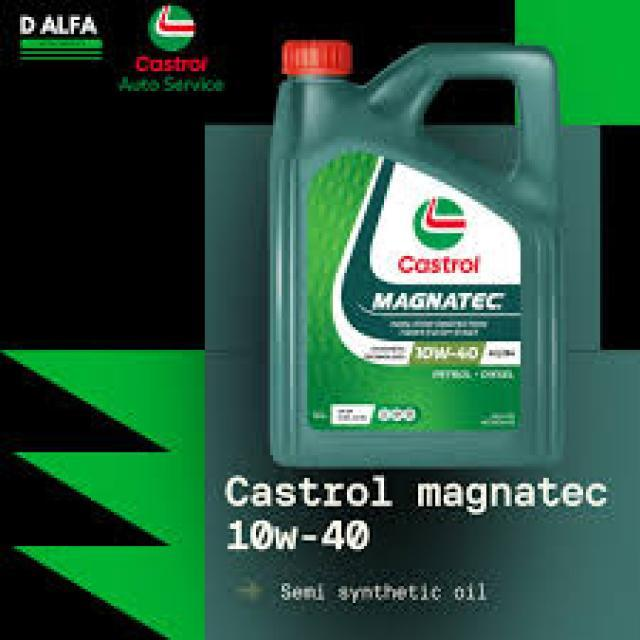motor_oil: (267, 34, 574, 472)
